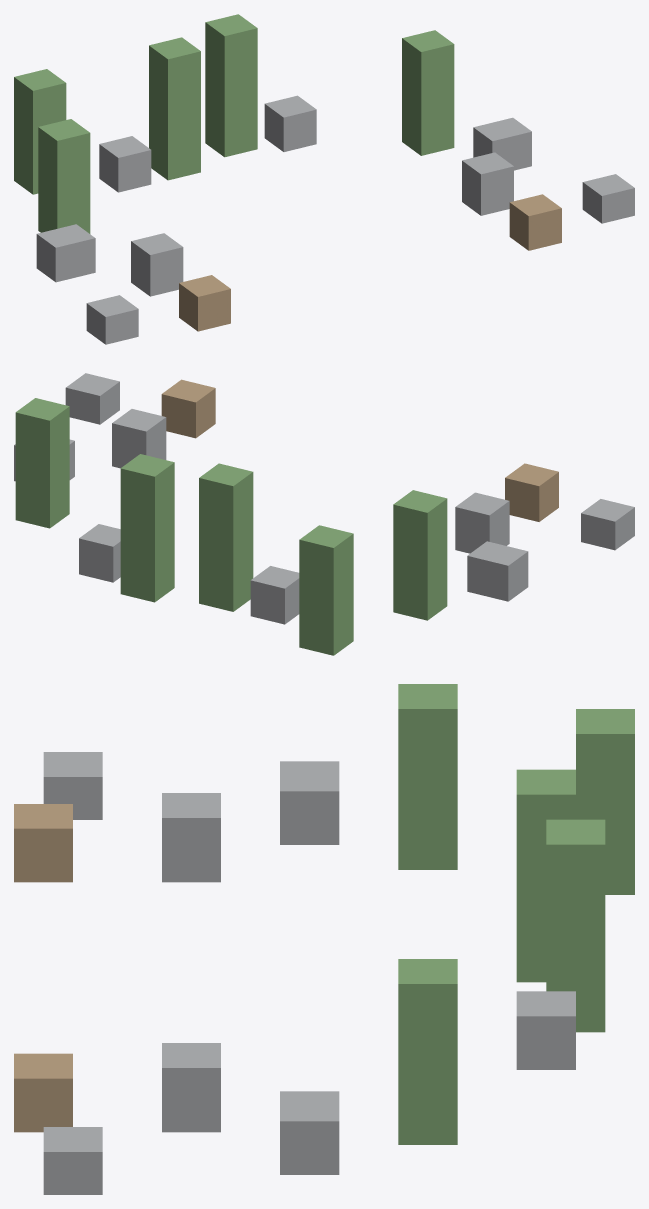
Rendered from field-low.gltf.
3 views of the same model, one above another, from view 1: azimuth 30°, elevation 25°; view 2: azimuth 150°, elevation 25°; view 3: azimuth 270°, elevation 25° (orthographic). The views are drawn at different scales.
Parts seen in each view (by area): view 1: tree-b2, tree-b1, tree-r1, tree-l1, tree-b3, rock-l2, rock-l1, rock-r1, rock-b1, crate-r1, rock-b2, crate-l1 (+3 smaller); view 2: tree-b2, tree-b1, tree-b3, tree-r1, tree-l1, rock-l2, rock-l1, crate-r1, crate-l1, rock-r1, rock-b1, rock-l3 (+2 smaller); view 3: tree-b2, tree-r1, tree-l1, tree-b3, tree-b1, rock-r1, rock-l1, rock-r2, rock-l2, rock-b2, crate-l1, crate-r1 (+2 smaller).
Boxes of the visible parts, x1,y1,x2,y2 form: tree-b2: (205,14,257,157); tree-b1: (149,37,200,180); tree-r1: (402,30,454,155); tree-l1: (38,119,90,233); tree-b3: (14,69,66,194); rock-l2: (36,224,95,282); rock-l1: (131,233,183,296); rock-r1: (462,152,513,215); rock-b1: (99,136,151,192); crate-r1: (509,194,561,250); rock-b2: (264,95,316,151); crate-l1: (179,275,230,331); tree-b2: (120,454,174,602); tree-b1: (199,463,253,611); tree-b3: (299,525,353,655); tree-r1: (15,398,69,528); tree-l1: (393,490,447,620); rock-l2: (467,541,528,601); rock-l1: (455,492,509,553); crate-r1: (161,379,215,438); crate-l1: (505,463,558,521); rock-r1: (112,409,166,468); rock-b1: (250,566,299,624); rock-l3: (581,499,634,550); tree-b2: (546,819,605,1032); tree-r1: (398,959,457,1144); tree-l1: (398,684,457,869); tree-b3: (576,709,634,894); tree-b1: (516,769,575,982); rock-r1: (162,1043,220,1132); rock-l1: (162,793,220,882); rock-r2: (280,1091,339,1174); rock-l2: (280,761,339,844); rock-b2: (516,991,575,1069); crate-l1: (14,804,72,882); crate-r1: (14,1053,72,1132).
Bounding box in the file's own units: 16 × 3.5 × 10.5.
